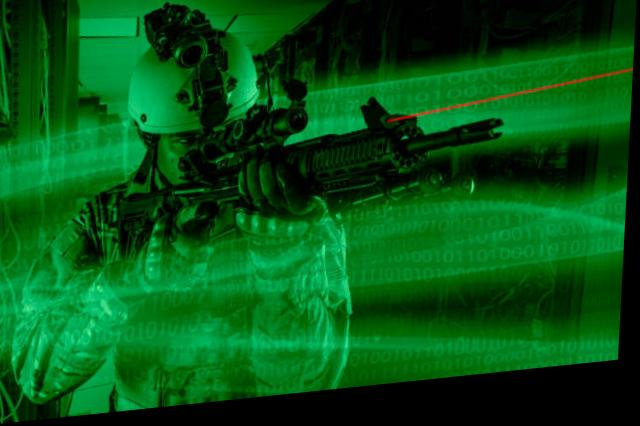other: (19, 0, 362, 421)
